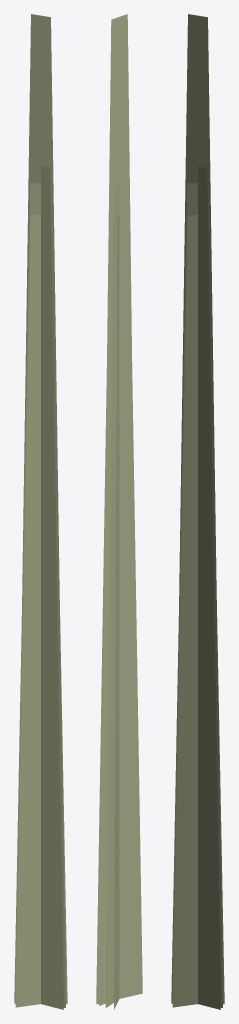
Rendered from bank_reed_v0_far.gltf.
3 views of the same model, side by side, from view 1: azimuth 90°, elevation 25°; view 2: azimuth 150°, elevation 25°; view 3: azimuth 270°, elevation 25° (orthographic).
Visible parts, largest first — view 1: cover; view 2: cover; view 3: cover.
Boxes of the visible parts, x1,y1,x2,y2 form: cover: (14,14,67,1009); cover: (96,14,142,1009); cover: (171,14,224,1009).
Size of the model in its own units: 0.0208 by 0.8156 by 0.04.
